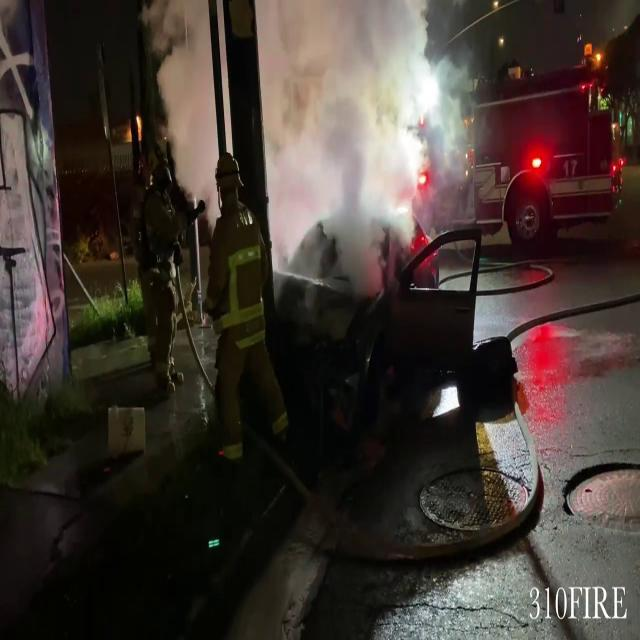Smoke: (80, 1, 480, 234)
